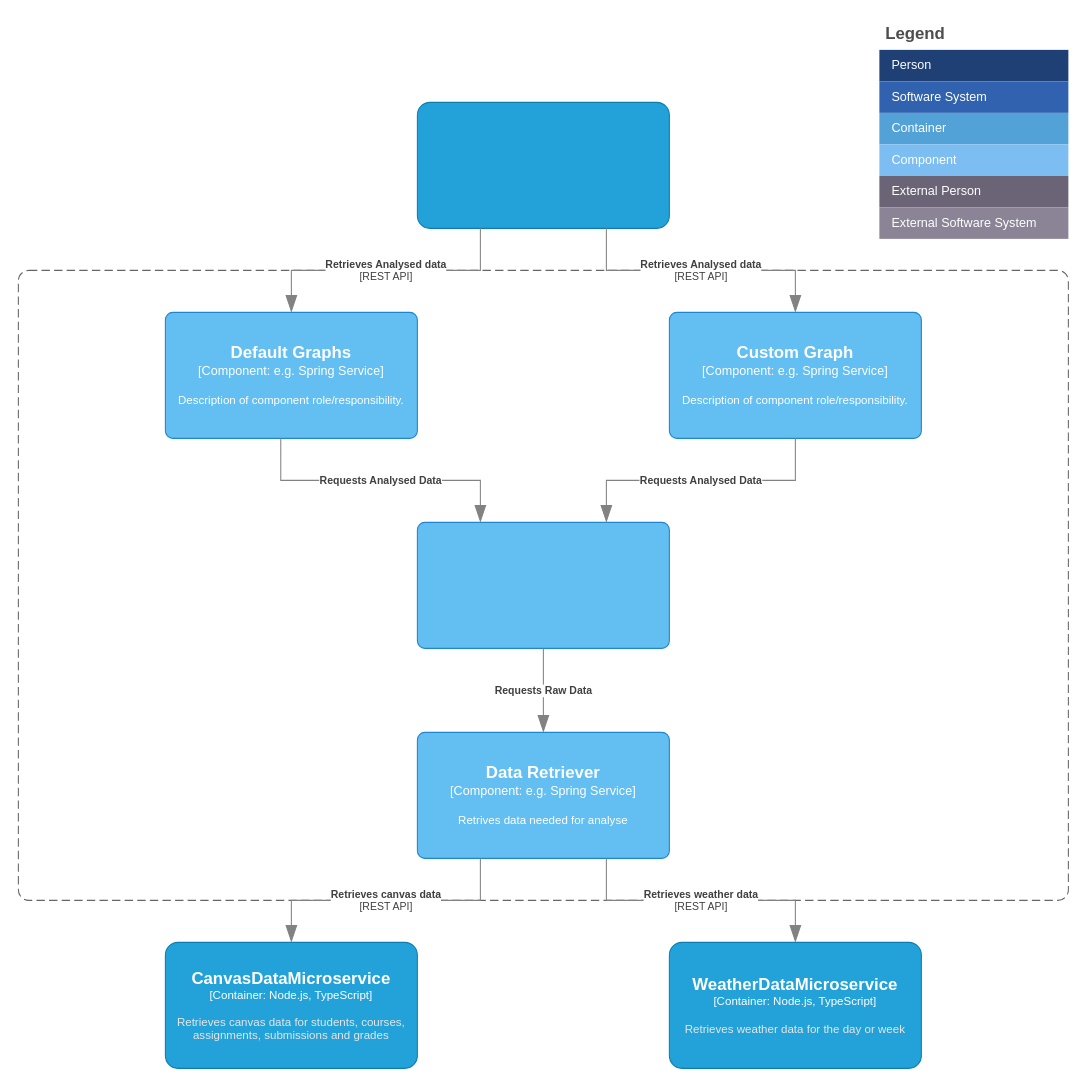
This 1087x1087 diagram has some shape labels left out. Each missing label, with the box of its shape:
AnalyseMicroservice [Container]: (17, 269, 1068, 900)
Canvas-LTI-Gateway [Container: Node.js, TypeScript] Forwards data to Canvas page: (416, 101, 669, 228)
Data Analyser [Component: e.g. Spring Service] Analyzes data: (416, 521, 669, 648)
